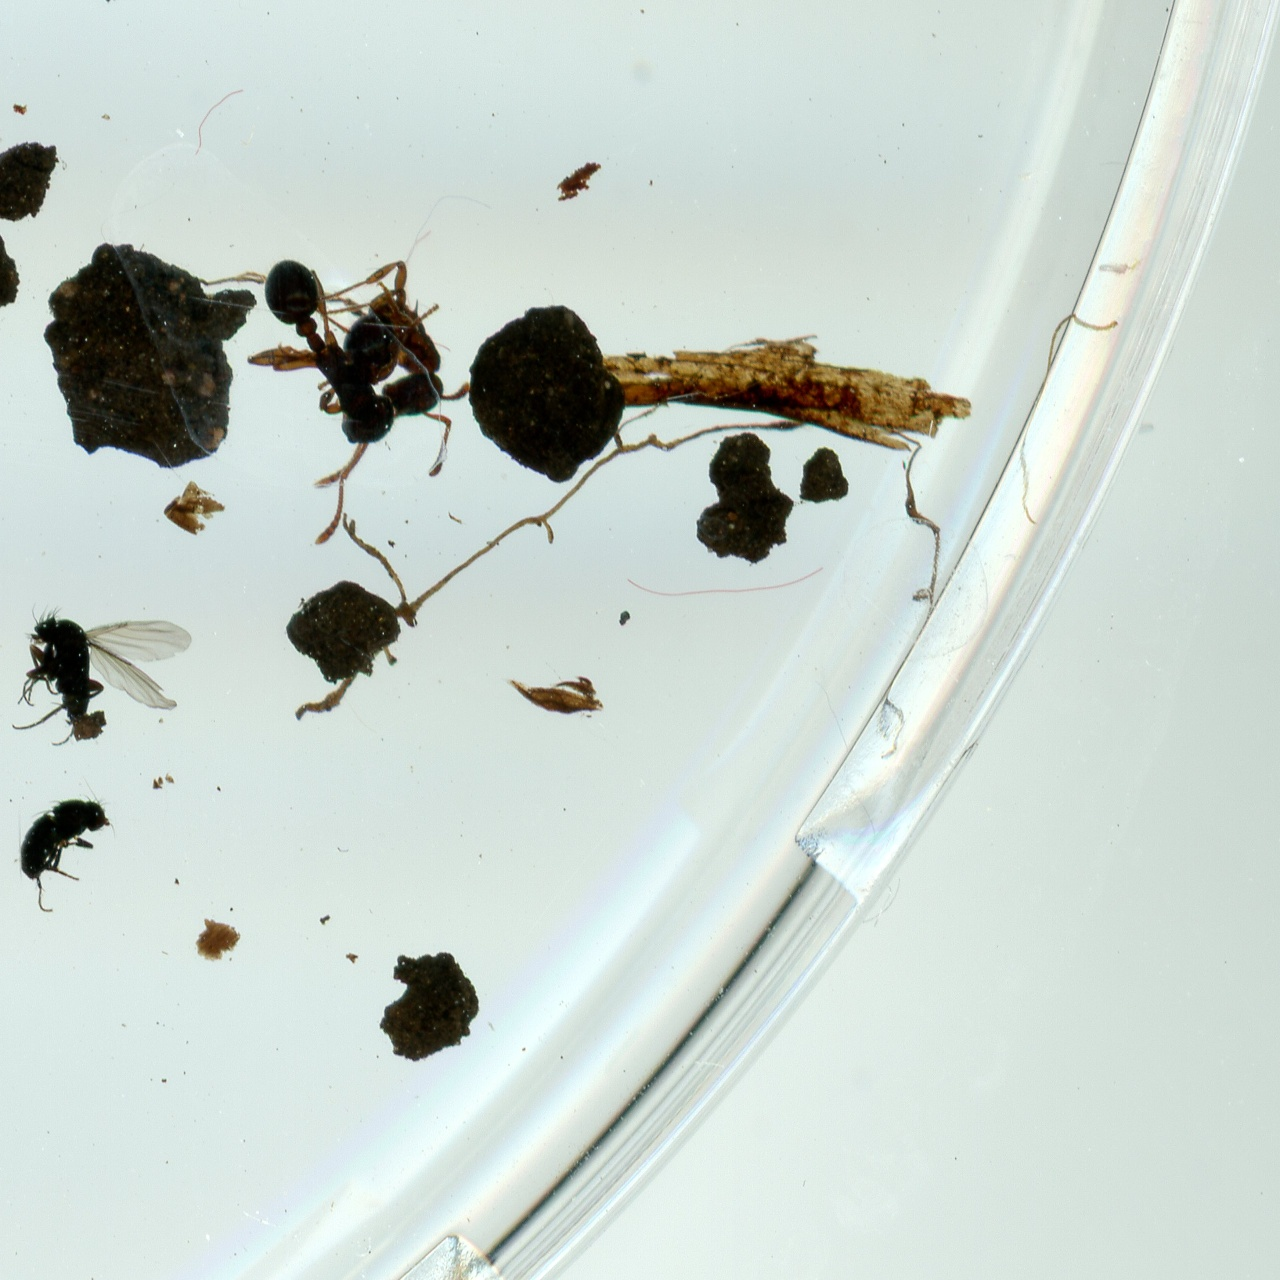arthropod: (193, 171, 520, 537), (183, 236, 451, 556), (8, 596, 197, 757), (9, 777, 121, 916)
